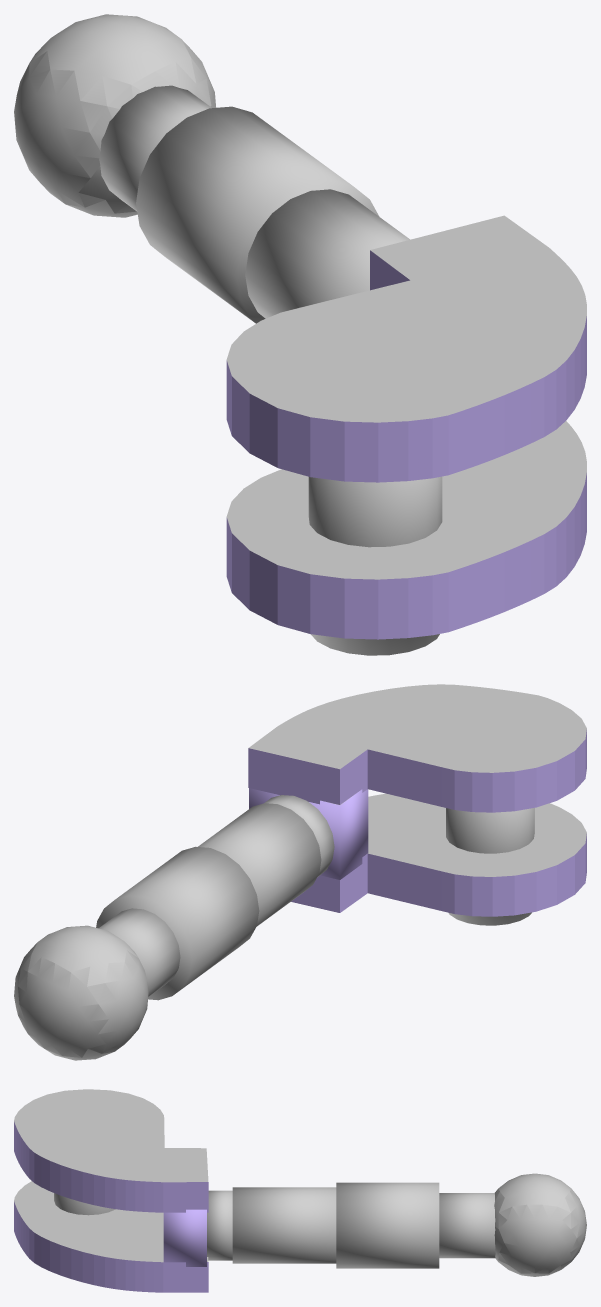
File: back_right_lower.obj
3 renders of one model, top to bottom at view 1: azimuth 30°, elevation 25°; view 2: azimuth 150°, elevation 25°; view 3: azimuth 270°, elevation 25°, orthographic. The views are drawn at different scales.
Size of the model in its own units: 1.84 by 1.19 by 4.55.
